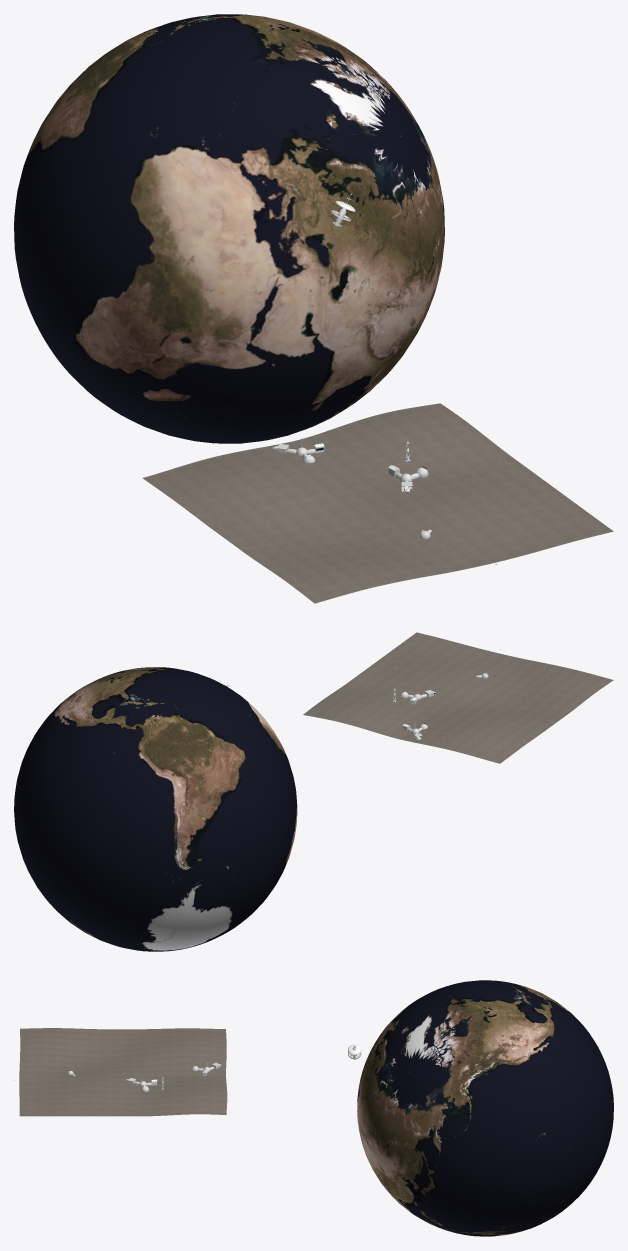
The model's file is lunar-home.glb.
The picture shows the model from 3 angles, top to bottom: view 1: azimuth 30°, elevation 25°; view 2: azimuth 150°, elevation 25°; view 3: azimuth 270°, elevation 25°; orthographic projection. The views are drawn at different scales.
Parts seen in each view (by area): view 1: Earth, Plane; view 2: Earth, Plane; view 3: Earth, Plane.
Part boxes in pixels (<box>): Earth: <box>14,14,444,443</box>; Plane: <box>142,403,613,603</box>; Earth: <box>14,667,297,951</box>; Plane: <box>303,632,613,763</box>; Earth: <box>357,980,613,1236</box>; Plane: <box>19,1028,227,1116</box>.
Bounding box in the file's own units: 223 × 169 × 395.
108 materials, 3 textured.
